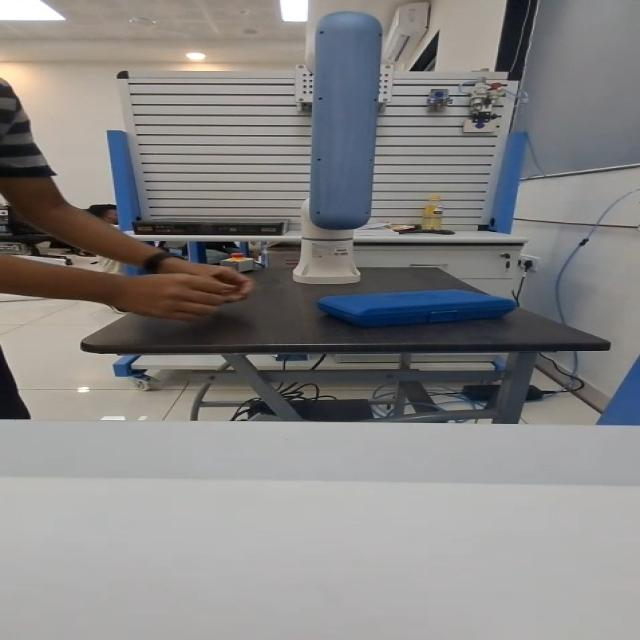top-surface: (342, 293, 492, 306)
